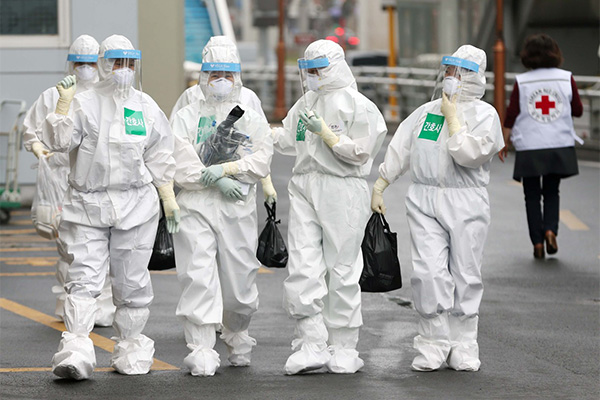Coverall: (43, 33, 173, 380), (379, 45, 504, 374), (273, 39, 388, 373), (174, 47, 273, 377), (24, 32, 100, 148)
Face_Shield: (431, 55, 479, 115), (99, 49, 145, 106), (295, 58, 334, 113), (199, 62, 244, 108), (65, 54, 99, 88)
Gloves: (297, 108, 336, 141), (158, 184, 180, 235), (441, 94, 461, 134), (56, 76, 76, 115), (371, 179, 391, 214), (201, 164, 226, 187), (217, 178, 243, 200), (261, 175, 281, 202), (31, 142, 53, 161)
Mask: (74, 65, 96, 80)
with_mask: (111, 66, 137, 90), (210, 77, 234, 102), (441, 76, 461, 94), (305, 73, 322, 89)
